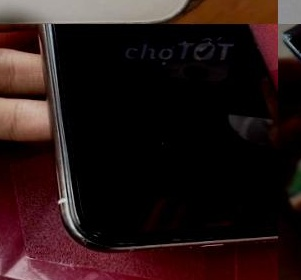scratch: (278, 24, 301, 97), (73, 229, 97, 254), (167, 235, 190, 245)
